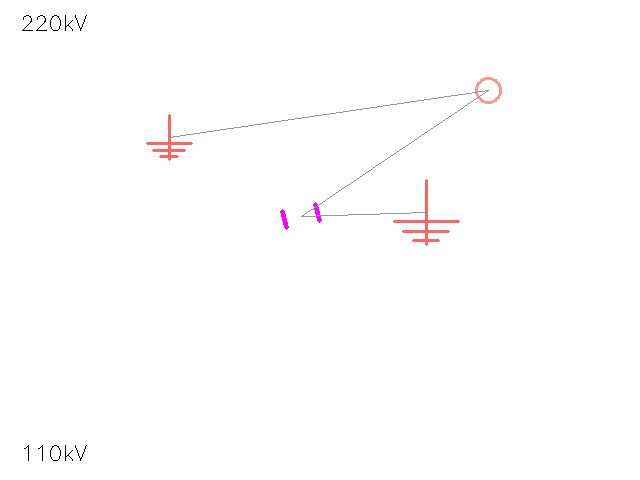capacitor: (273, 188, 329, 244)
ground: (394, 180, 458, 244), (147, 115, 191, 159)
load_break_switch: (464, 66, 512, 114)
